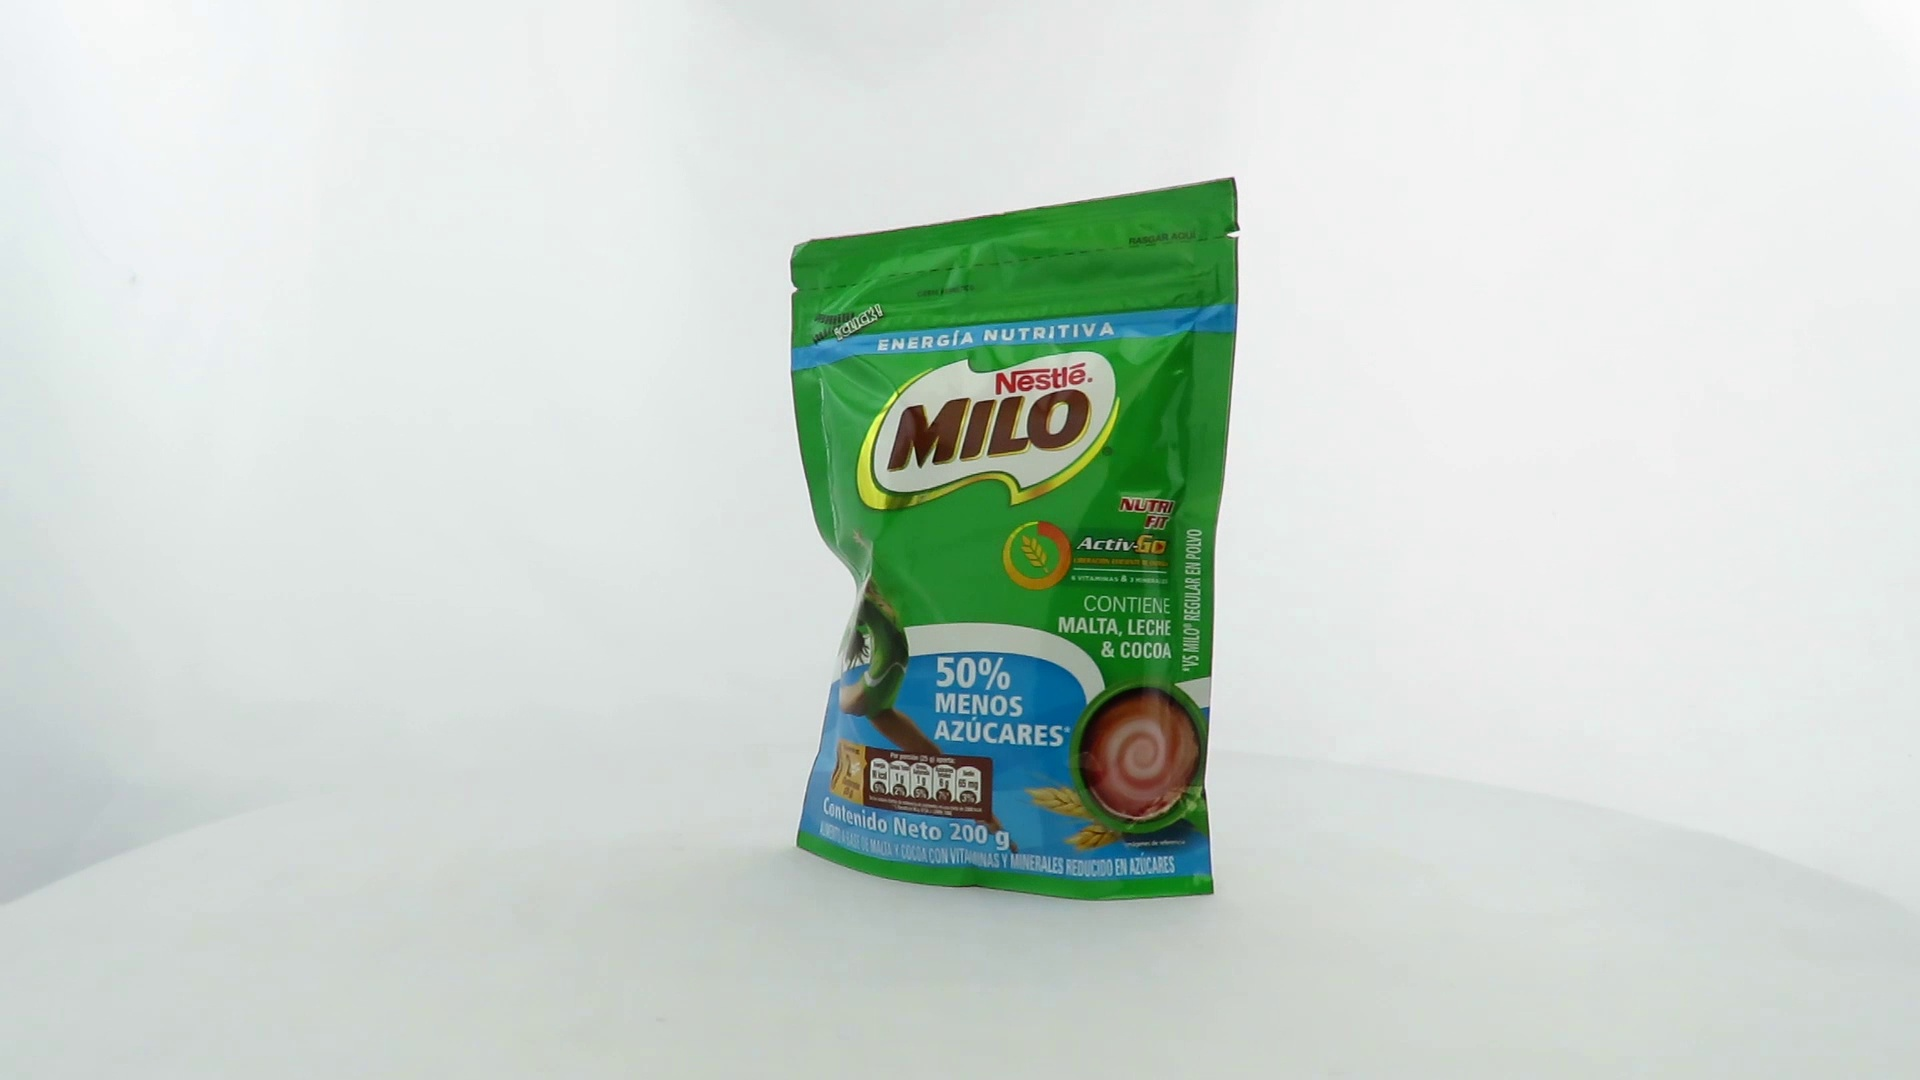COL0170205DYP20000: (756, 171, 1246, 911)
